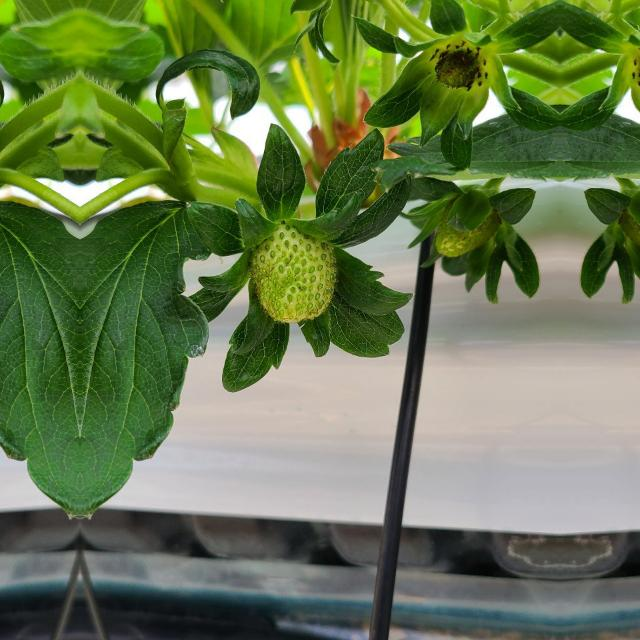Health_25: (252, 224, 336, 322), (432, 188, 508, 266), (426, 30, 496, 100), (611, 187, 640, 266), (624, 30, 640, 100)
